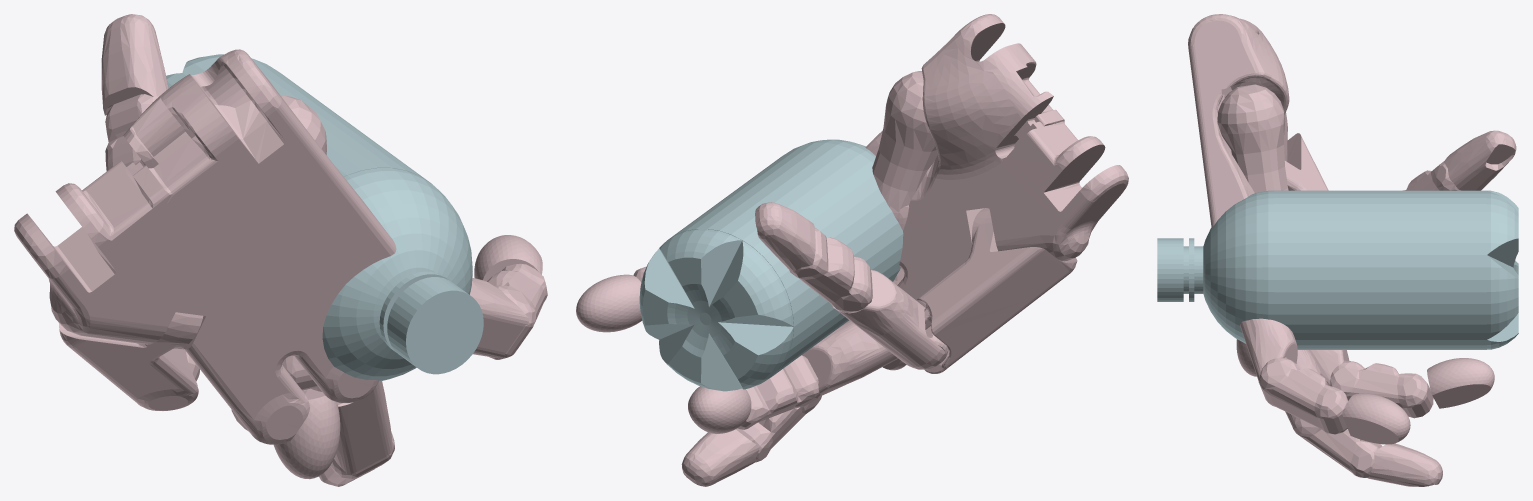
File: grasp_7.glb
3 renders of one model, left to right at view 1: azimuth 30°, elevation 25°; view 2: azimuth 150°, elevation 25°; view 3: azimuth 270°, elevation 25°, orthographic. The views are drawn at different scales.
Parts seen in each view (by area): view 1: world; view 2: world; view 3: world.
Part boxes in pixels (x1,y1,x2,y2): world: (14,14,547,486); world: (576,14,1128,486); world: (1157,14,1518,486).
Bounding box in the file's own units: 0.1888 × 0.1651 × 0.1365.
